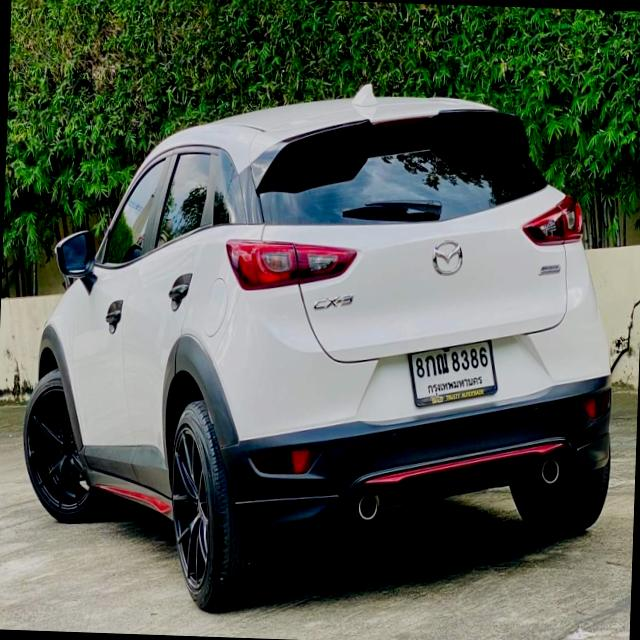license_plate: (404, 334, 499, 412)
